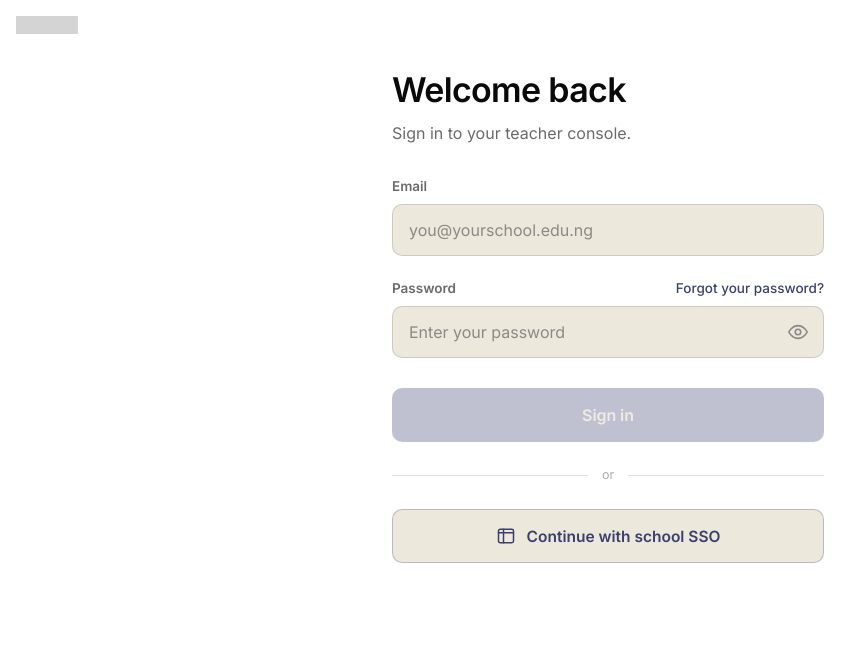
Test: what a failed sign-in says › does not tell a paused teacher their password was wrong
Type "a.adeyemi@example.com" into the field labelled "Email".
click(608, 230); type("a.adeyemi@example.com")  # box left=392, top=204, right=824, bottom=256
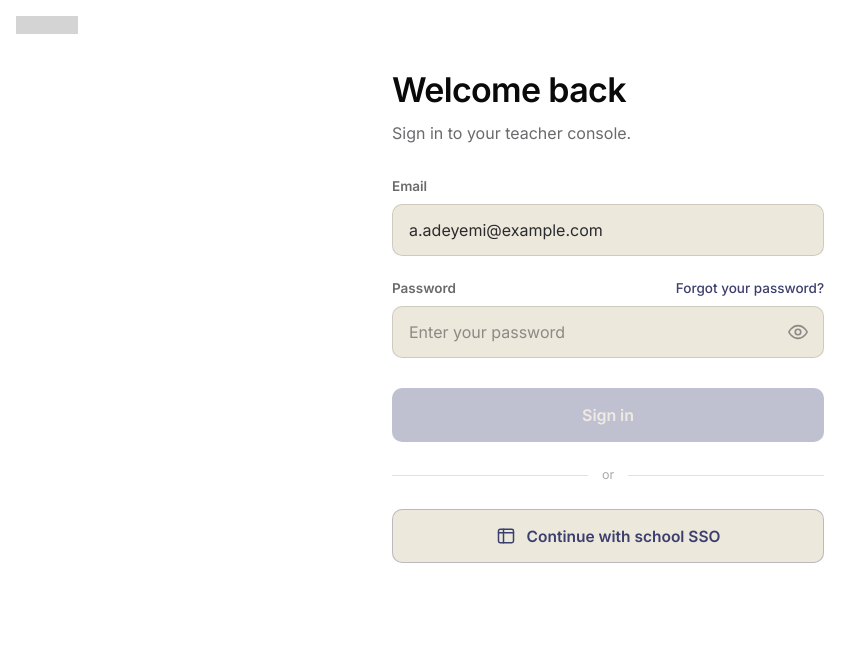
Type "a-password" into the password field labelled "Password".
click(594, 332); type("a-password")  # box left=409, top=307, right=779, bottom=357
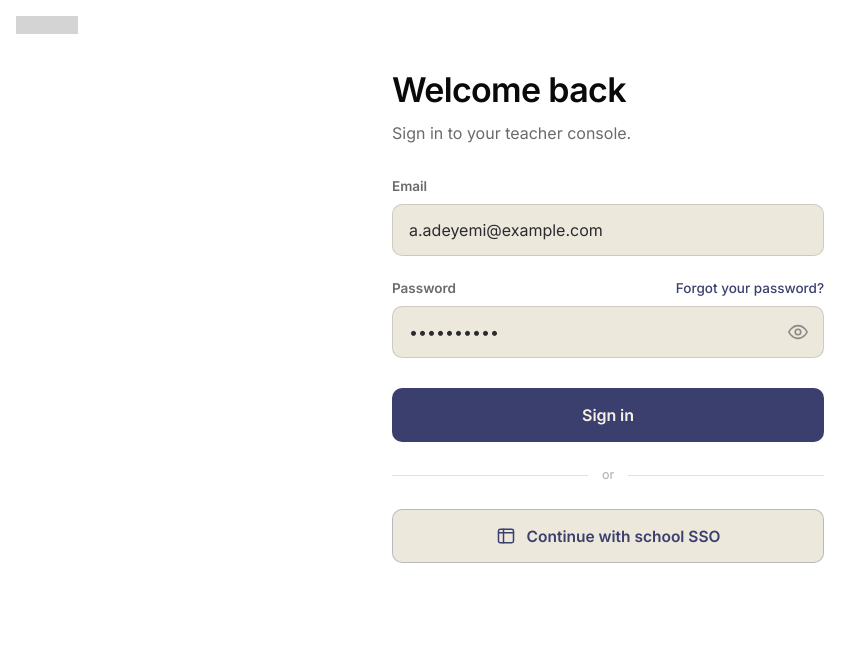
Click the button "Sign in".
click(608, 415)  # box left=392, top=388, right=824, bottom=442
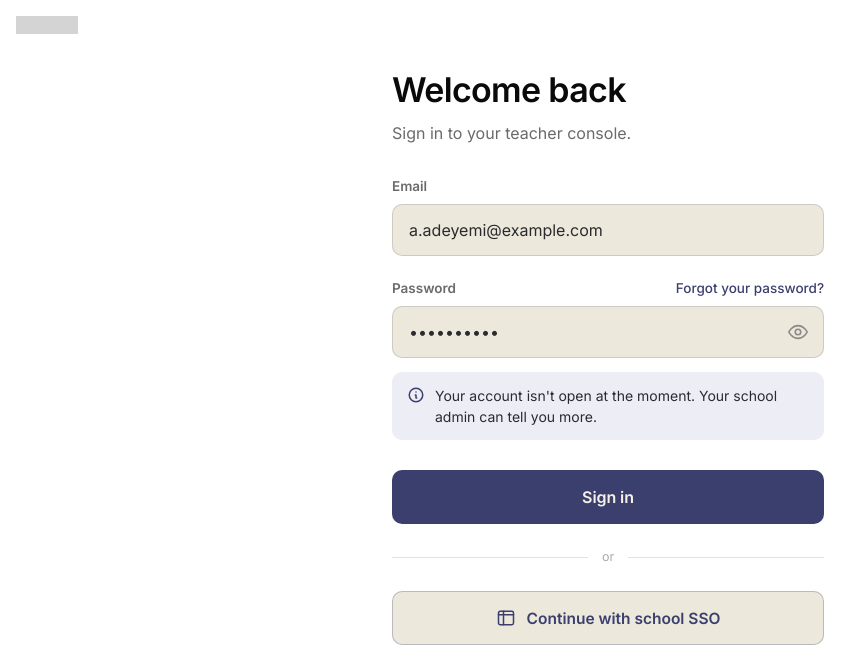
expect the text "open at the moment" is shown: met, box left=435, top=387, right=777, bottom=425
